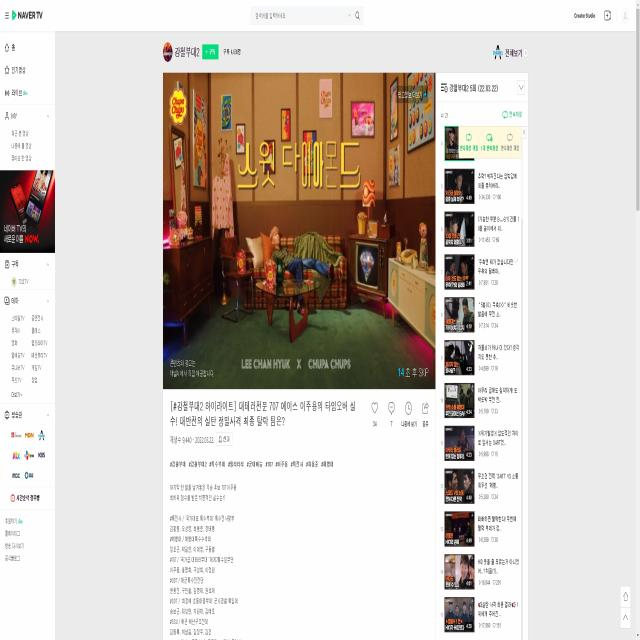search: (248, 4, 366, 26)
